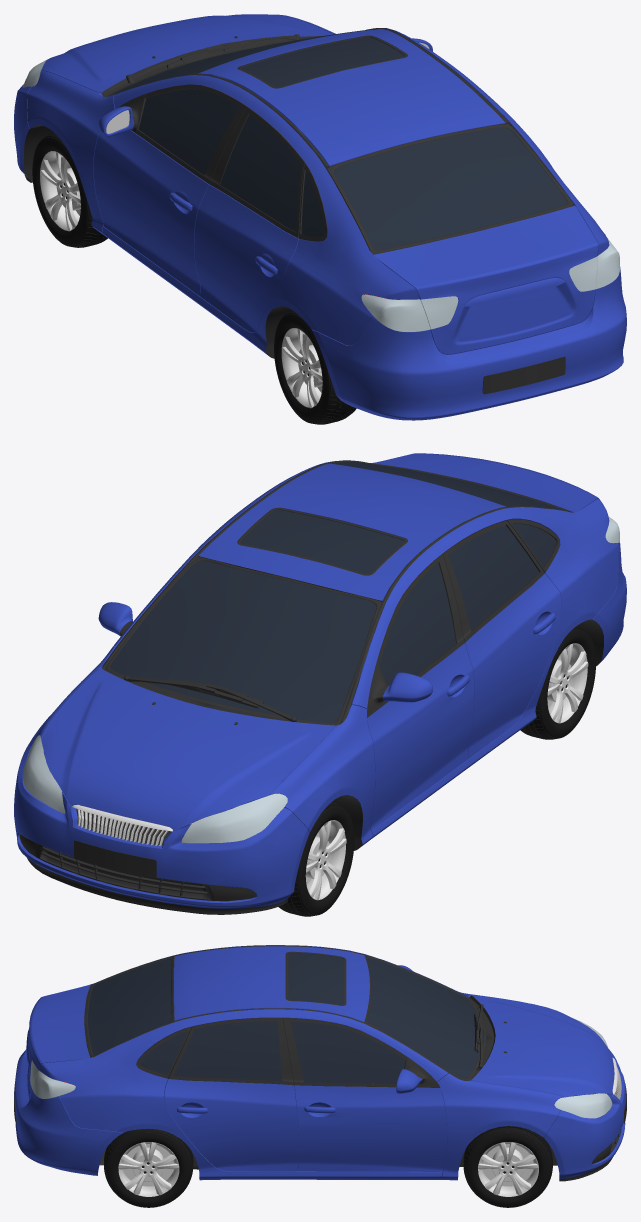
Rendered from Sedan.obj.
3 views of the same model, one above another, from view 1: azimuth 30°, elevation 25°; view 2: azimuth 150°, elevation 25°; view 3: azimuth 270°, elevation 25° (orthographic). The views are drawn at different scales.
Parts seen in each view (by area): view 1: ELANTRA_BODY, ELANTRA_BODY.008, Wheels, Plane.005, ELANTRA_BODY.001, Plane.002, Plane.008, Cylinder.002; view 2: ELANTRA_BODY, ELANTRA_BODY.008, Wheels, Plane.005, ELANTRA_BODY.002, Plane.004, Plane.007, ELANTRA_BODY.005, Cylinder.003; view 3: ELANTRA_BODY, ELANTRA_BODY.008, Wheels, Plane.005, ELANTRA_BODY.002, ELANTRA_BODY.001, Plane.004, Plane.002, ELANTRA_BODY.007.
Boxes of the visible parts, x1,y1,x2,y2 form: ELANTRA_BODY: (14,14,626,420); ELANTRA_BODY.008: (111,29,567,253); Wheels: (32,132,356,424); Plane.005: (237,35,407,88); ELANTRA_BODY.001: (361,236,619,331); Plane.002: (328,124,573,253); Plane.008: (482,356,565,394); Cylinder.002: (126,42,263,83); ELANTRA_BODY: (14,453,626,914); ELANTRA_BODY.008: (110,462,564,722); Wheels: (126,625,595,916); Plane.005: (237,508,407,575); ELANTRA_BODY.002: (22,735,287,843); Plane.004: (105,557,381,725); Plane.007: (74,840,156,878); ELANTRA_BODY.005: (77,805,169,845); Cylinder.003: (124,675,258,708); ELANTRA_BODY: (14,945,626,1181); ELANTRA_BODY.008: (87,958,483,1083); Wheels: (104,1126,552,1207); Plane.005: (285,952,346,1005); ELANTRA_BODY.002: (554,1018,612,1118); ELANTRA_BODY.001: (30,1060,75,1098); Plane.004: (364,956,486,1080); Plane.002: (85,956,173,1057); ELANTRA_BODY.007: (177,1106,335,1113).
Size of the model in its own units: 2.1 by 1.53 by 4.54.
Materials: 9 (9 with a texture image).
